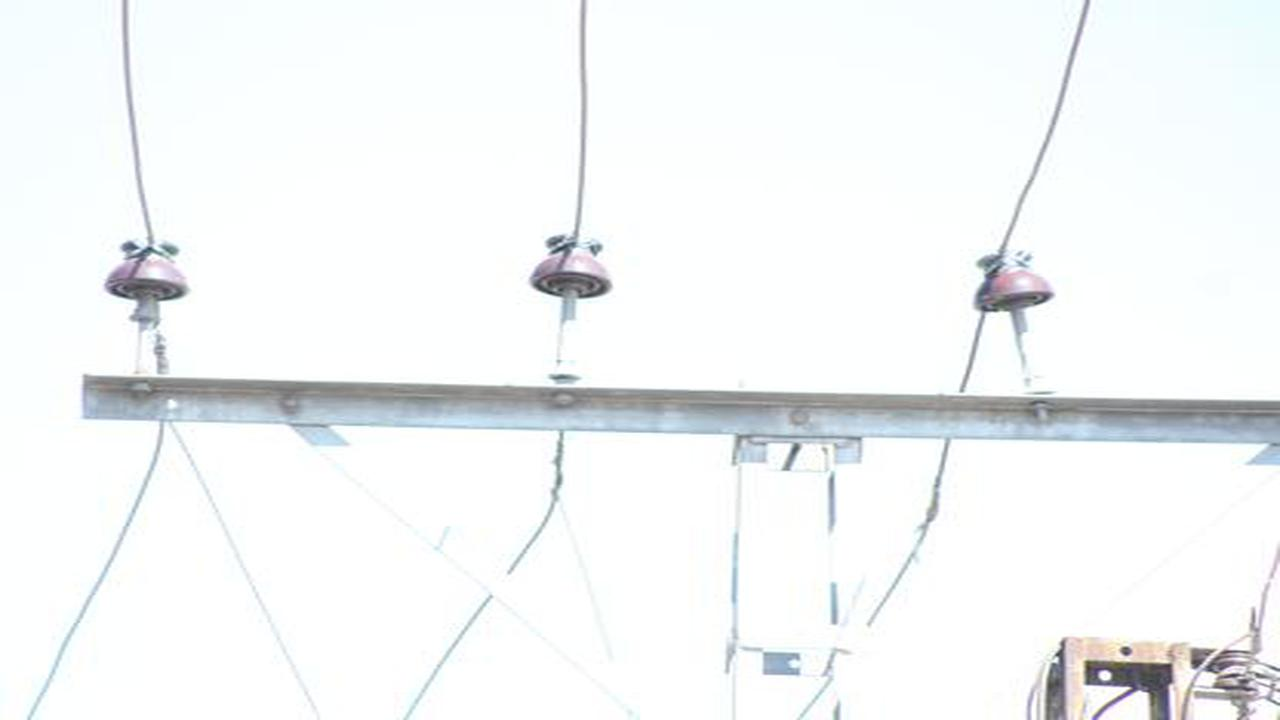insulator_pin: (964, 244, 1058, 315), (526, 230, 614, 303), (100, 236, 190, 306)
